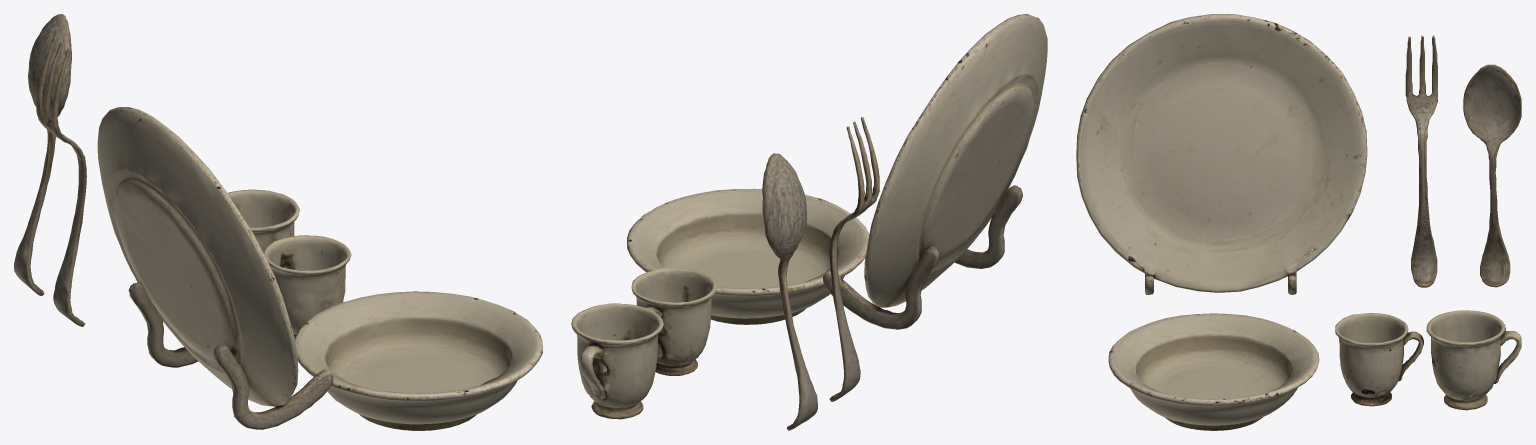
3 views of the same model, side by side, from view 1: azimuth 30°, elevation 25°; view 2: azimuth 150°, elevation 25°; view 3: azimuth 270°, elevation 25° (orthographic). The views are drawn at different scales.
Visible parts, largest first — view 1: tripo_node_9b16e192-e9b5-43ec-97ef-6408174f6e91; view 2: tripo_node_9b16e192-e9b5-43ec-97ef-6408174f6e91; view 3: tripo_node_9b16e192-e9b5-43ec-97ef-6408174f6e91.
Part boxes in pixels (<box>): tripo_node_9b16e192-e9b5-43ec-97ef-6408174f6e91: <box>14,14,542,430</box>; tripo_node_9b16e192-e9b5-43ec-97ef-6408174f6e91: <box>571,14,1047,430</box>; tripo_node_9b16e192-e9b5-43ec-97ef-6408174f6e91: <box>1076,14,1521,430</box>.
Size of the model in its own units: 0.8184 by 0.7129 by 0.998.
Materials: 1 (1 with a texture image).
